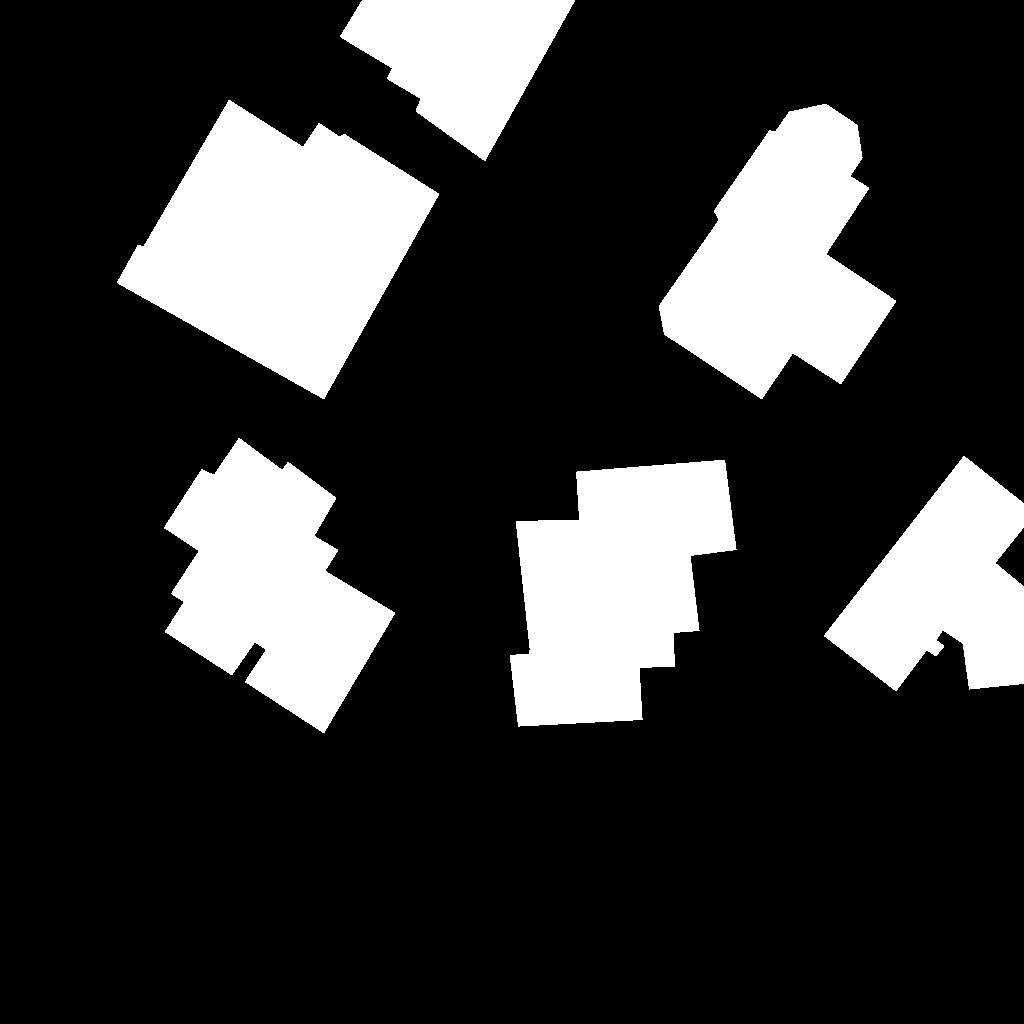building: (117, 100, 440, 400), (659, 104, 897, 400), (164, 438, 396, 734), (510, 460, 737, 727), (824, 456, 1024, 692), (340, 0, 576, 162)
